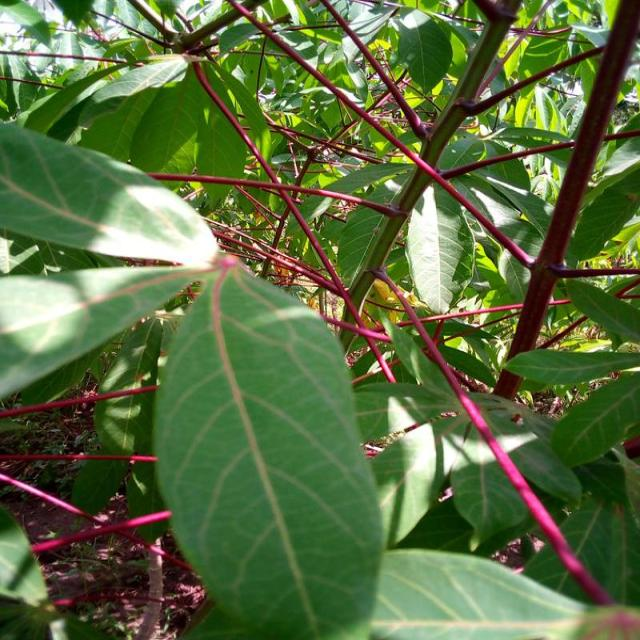cassava leaf: (152, 253, 385, 638), (0, 119, 218, 266), (404, 176, 475, 315)
